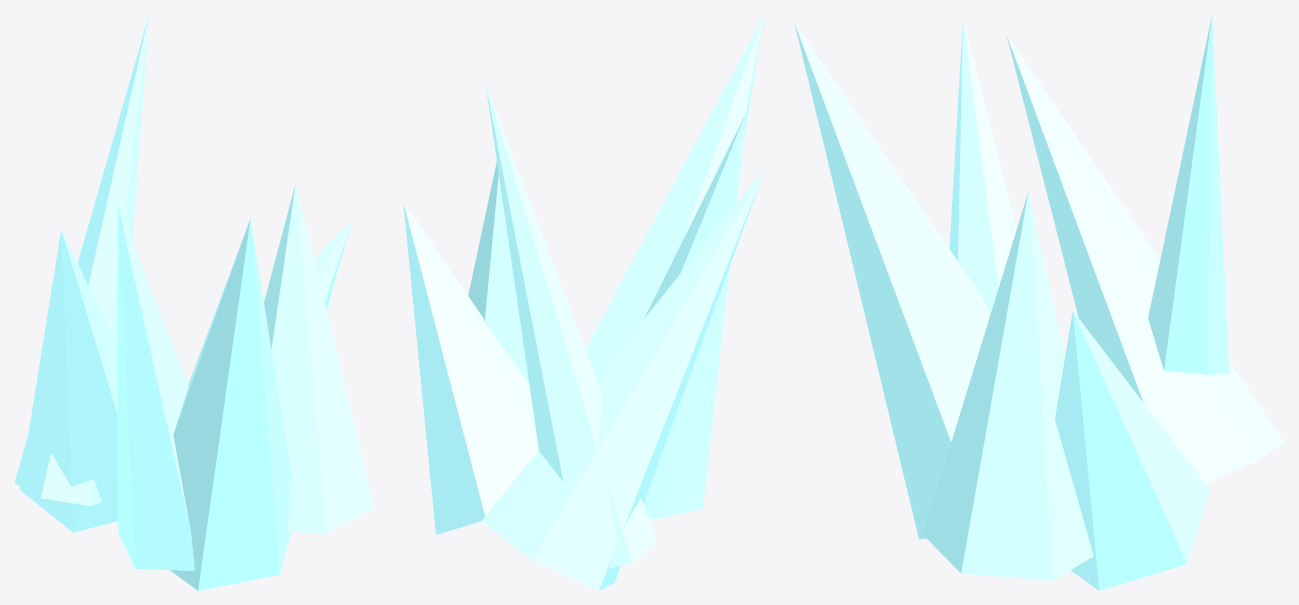
Rendered from Env_Crystal_Cluster_A.fbx.
3 renders of one model, left to right at view 1: azimuth 30°, elevation 25°; view 2: azimuth 150°, elevation 25°; view 3: azimuth 270°, elevation 25°, orthographic. The views are drawn at different scales.
Parts seen in each view (by area): view 1: Env_Crystal_Cluster_A; view 2: Env_Crystal_Cluster_A; view 3: Env_Crystal_Cluster_A.
Part boxes in pixels (x1=…): Env_Crystal_Cluster_A: x1=14, y1=15, x2=374, y2=590; Env_Crystal_Cluster_A: x1=403, y1=15, x2=765, y2=590; Env_Crystal_Cluster_A: x1=794, y1=15, x2=1284, y2=590.
Size of the model in its own units: 1.35 by 1.92 by 1.59.
